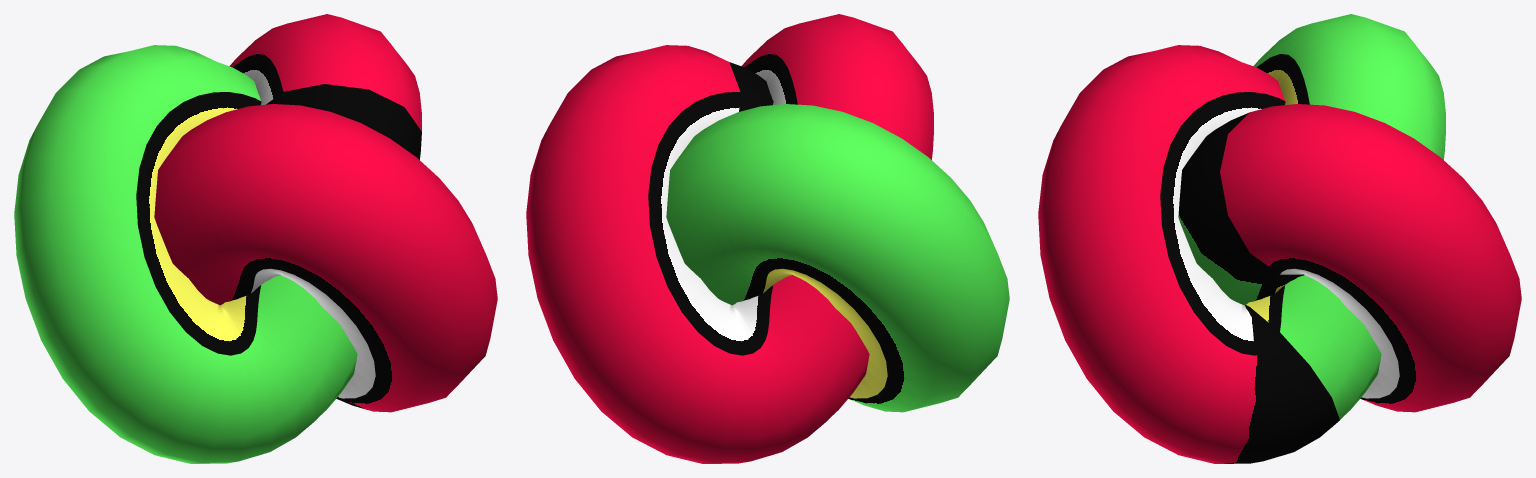
File: knot.FBX
The picture shows the model from 3 angles, left to right: view 1: azimuth 30°, elevation 25°; view 2: azimuth 150°, elevation 25°; view 3: azimuth 270°, elevation 25°; orthographic projection.
Visible parts, largest first — view 1: Torus Knot001; view 2: Torus Knot001; view 3: Torus Knot001.
Boxes of the visible parts, x1=… form: Torus Knot001: x1=14, y1=14, x2=497, y2=463; Torus Knot001: x1=526, y1=14, x2=1009, y2=463; Torus Knot001: x1=1038, y1=14, x2=1521, y2=463.
Bounding box in the file's own units: 18.24 × 15.02 × 19.21.
1 material, 1 textured.
